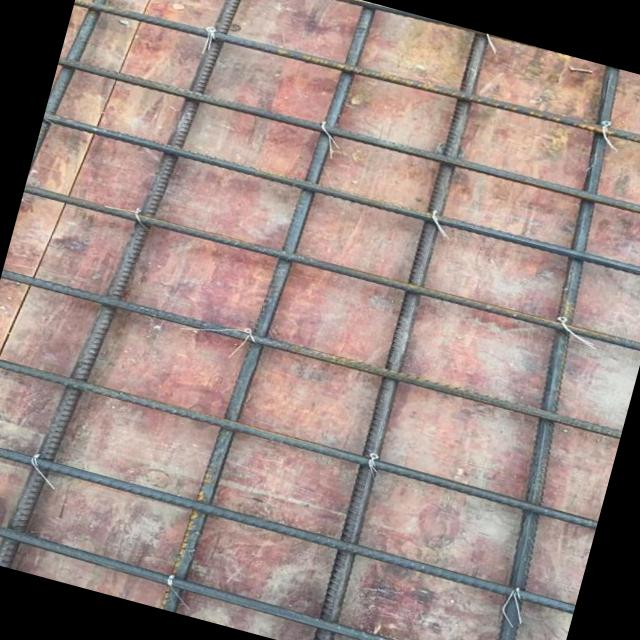ribbed bar: (0, 0, 250, 587), (159, 0, 380, 622), (440, 65, 640, 640), (307, 30, 493, 640), (0, 261, 621, 443), (23, 175, 640, 358), (42, 104, 640, 286), (0, 352, 596, 530), (57, 48, 640, 229), (0, 433, 574, 614), (73, 0, 640, 169), (0, 507, 554, 640), (90, 0, 520, 55), (27, 0, 135, 188)
